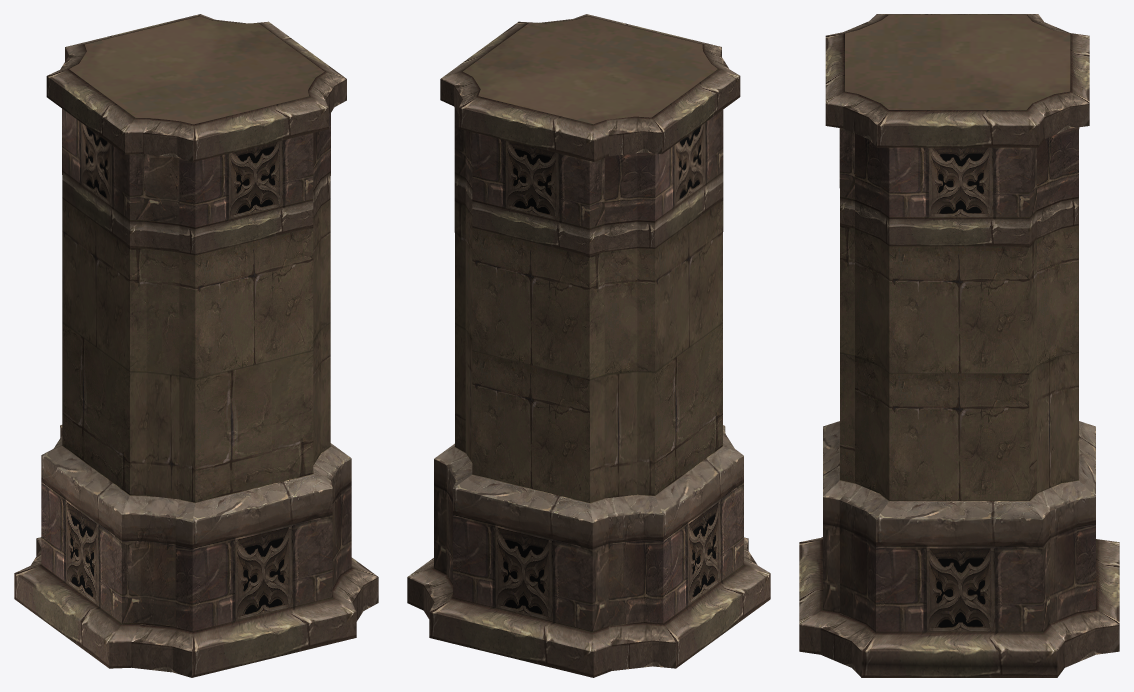
Rendered from A03_pillar_f.FBX.
3 renders of one model, left to right at view 1: azimuth 30°, elevation 25°; view 2: azimuth 150°, elevation 25°; view 3: azimuth 270°, elevation 25°, orthographic. The views are drawn at different scales.
Parts seen in each view (by area): view 1: A03_pillar_f; view 2: A03_pillar_f; view 3: A03_pillar_f.
Boxes of the visible parts, left/top/right/bottom form: A03_pillar_f: left=14, top=14, right=378, bottom=677; A03_pillar_f: left=407, top=14, right=770, bottom=677; A03_pillar_f: left=799, top=14, right=1119, bottom=677.
Size of the model in its own units: 2.58 by 4.87 by 2.58.
